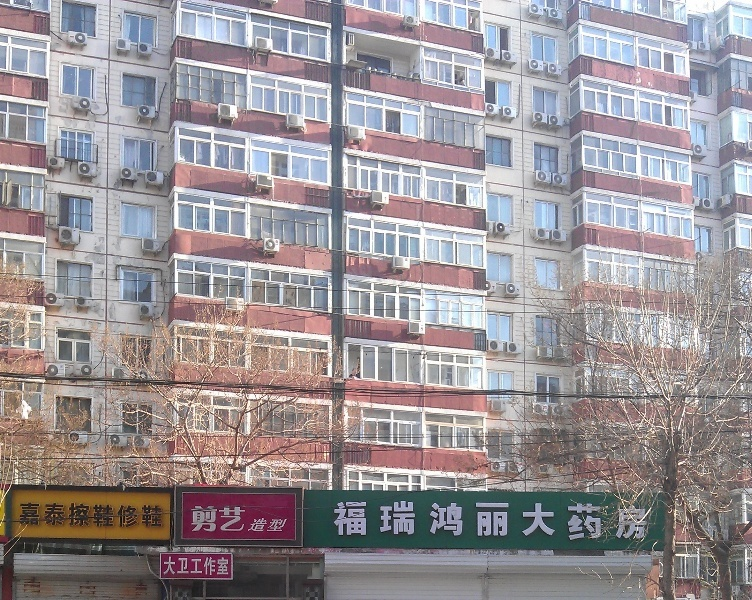text: (337, 500, 352, 541), (353, 500, 368, 541), (369, 500, 384, 541), (385, 500, 400, 541), (401, 500, 416, 541), (417, 500, 432, 541), (433, 500, 448, 541), (449, 500, 464, 541), (465, 500, 480, 541), (481, 500, 496, 541), (497, 500, 512, 541), (513, 500, 528, 541), (529, 500, 544, 541), (545, 500, 560, 541), (561, 500, 576, 541), (577, 500, 592, 541), (593, 500, 608, 541), (609, 500, 624, 541), (625, 500, 640, 541), (33, 502, 48, 529), (49, 502, 64, 529), (65, 502, 80, 529), (81, 502, 96, 529), (97, 502, 112, 529), (113, 502, 128, 529), (129, 502, 144, 529), (145, 502, 160, 529), (193, 505, 208, 532), (209, 505, 224, 532), (225, 505, 240, 532), (641, 500, 649, 541), (20, 502, 32, 529), (177, 557, 192, 575), (193, 557, 208, 575), (209, 557, 224, 575), (163, 557, 176, 575), (257, 518, 272, 532), (273, 518, 287, 532), (241, 505, 247, 532), (333, 500, 336, 541), (248, 518, 256, 532), (225, 557, 229, 575), (161, 502, 163, 529), (191, 505, 192, 532)
